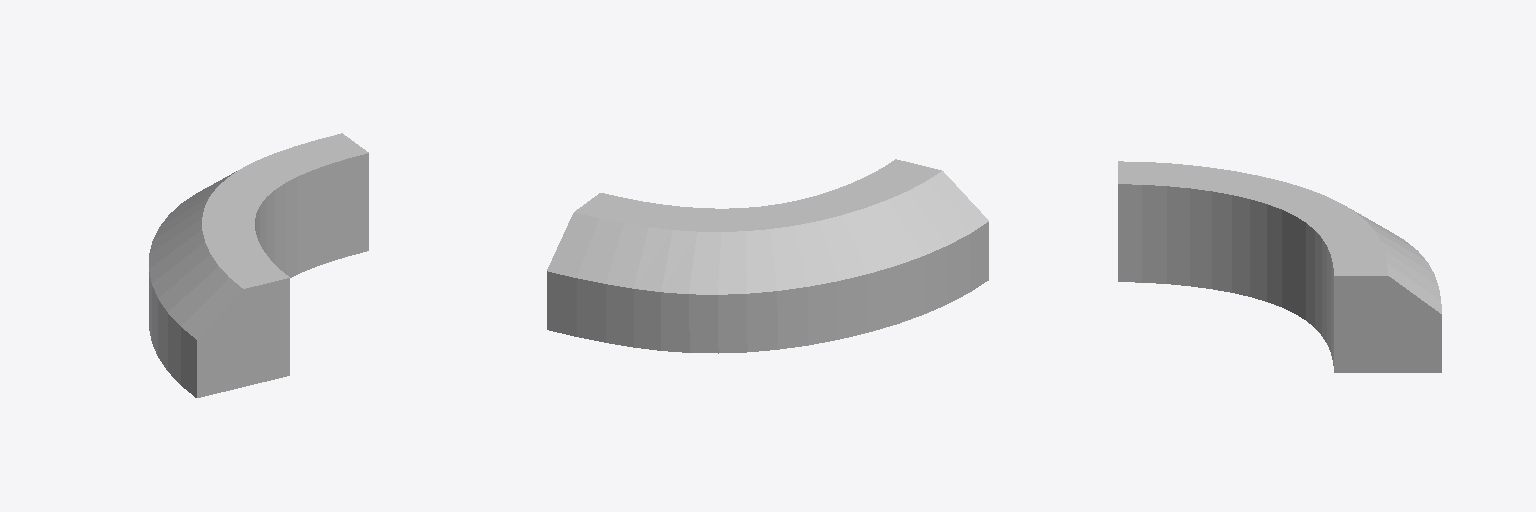
The model's file is Outside_Bend_LP.obj.
3 views of the same model, side by side, from view 1: azimuth 30°, elevation 25°; view 2: azimuth 150°, elevation 25°; view 3: azimuth 270°, elevation 25° (orthographic).
Visible parts, largest first — view 1: Inside_Bend_LP; view 2: Inside_Bend_LP; view 3: Inside_Bend_LP.
Boxes of the visible parts, <box> form: Inside_Bend_LP: <box>149,133,368,397</box>; Inside_Bend_LP: <box>547,159,988,353</box>; Inside_Bend_LP: <box>1118,161,1441,372</box>.
Bounding box in the file's own units: 3 × 1 × 3.